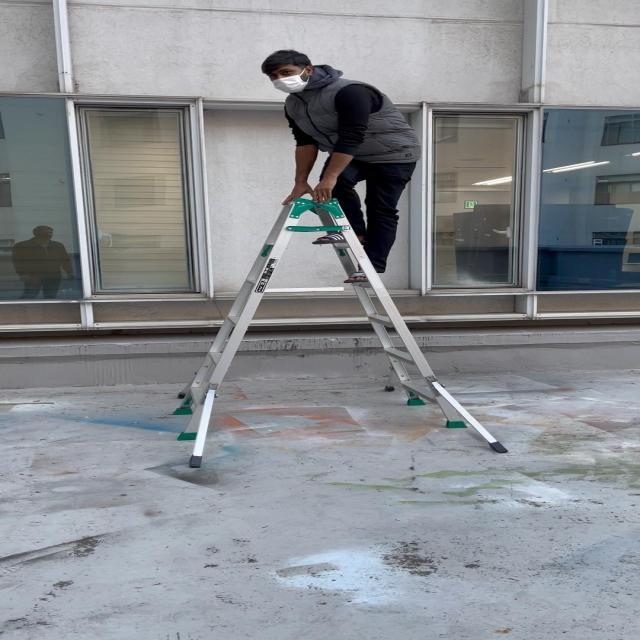boots: (175, 194, 513, 466)
vest: (261, 48, 421, 284)
